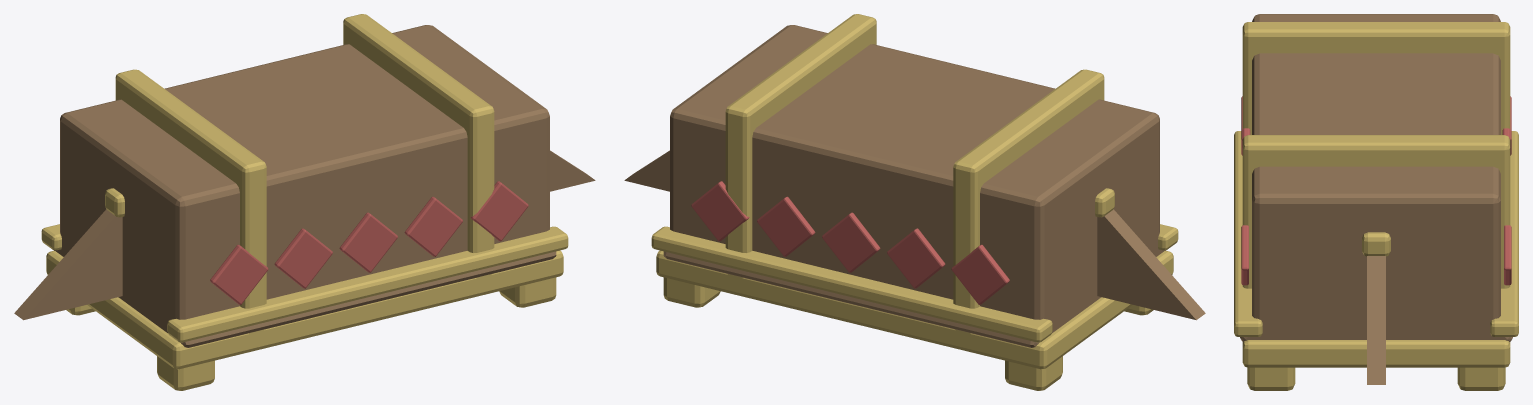
File: monastery_reliquary_casket.glb
The picture shows the model from 3 angles, left to right: view 1: azimuth 30°, elevation 25°; view 2: azimuth 150°, elevation 25°; view 3: azimuth 270°, elevation 25°; orthographic projection.
Parts seen in each view (by area): view 1: world; view 2: world; view 3: world.
Boxes of the visible parts, x1,y1,x2,y2 form: world: [14, 14, 595, 390]; world: [624, 14, 1205, 390]; world: [1234, 14, 1518, 390].
Size of the model in its own units: 2 by 0.7102 by 0.8466.
